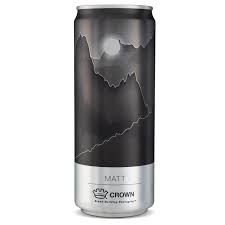can: (71, 3, 163, 219)
